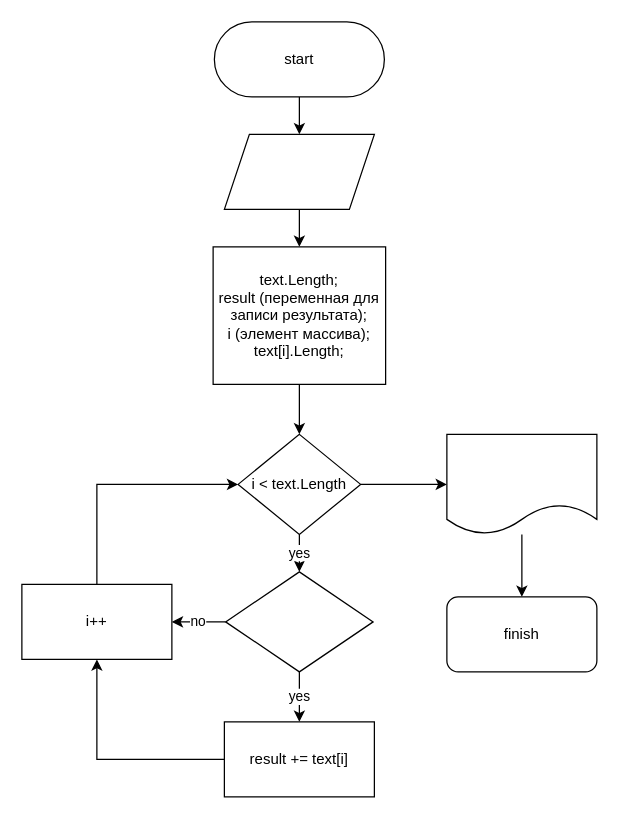
Image size: 619x819. Some labels were removed from this diagram. Each missing label, with the centre of its shape:
print(result): (x=521, y=483)
string[] text;: (x=298, y=171)
text[i].Length <= 3: (x=298, y=621)
